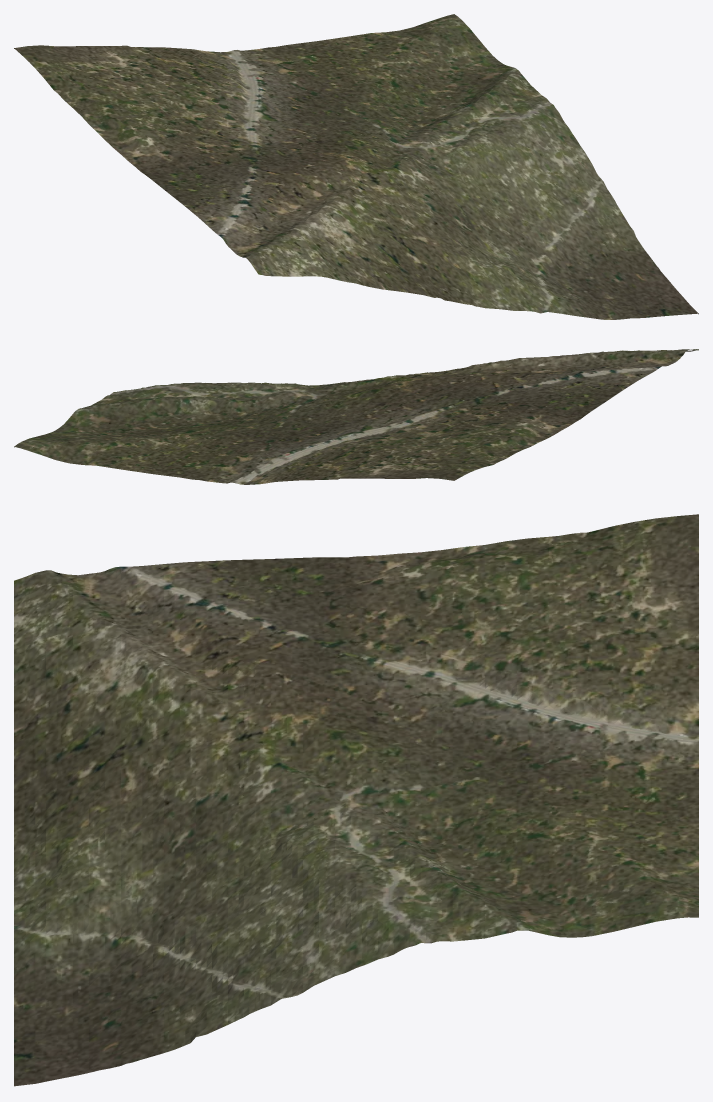
3 views of the same model, one above another, from view 1: azimuth 30°, elevation 25°; view 2: azimuth 150°, elevation 25°; view 3: azimuth 270°, elevation 25° (orthographic). The views are drawn at different scales.
Size of the model in its own units: 500 by 211 by 481.
1 material, 1 textured.
